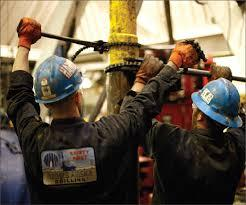gloves: (168, 39, 208, 71), (134, 54, 164, 86), (15, 17, 42, 50)
